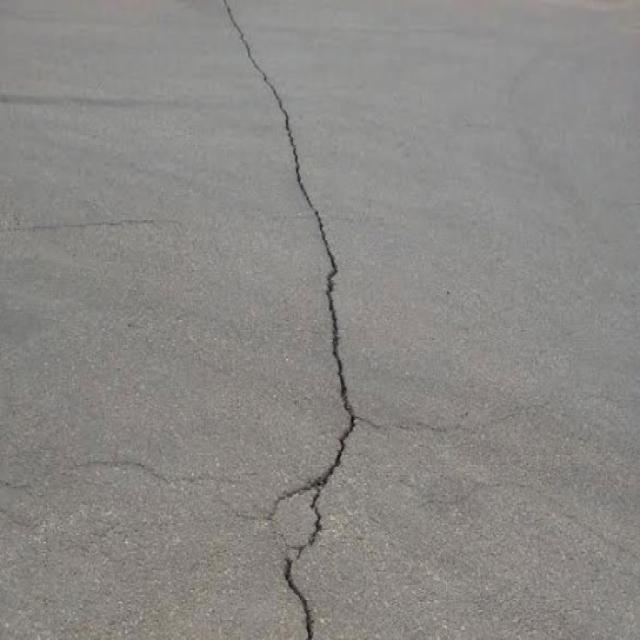crack: (222, 4, 356, 638)
